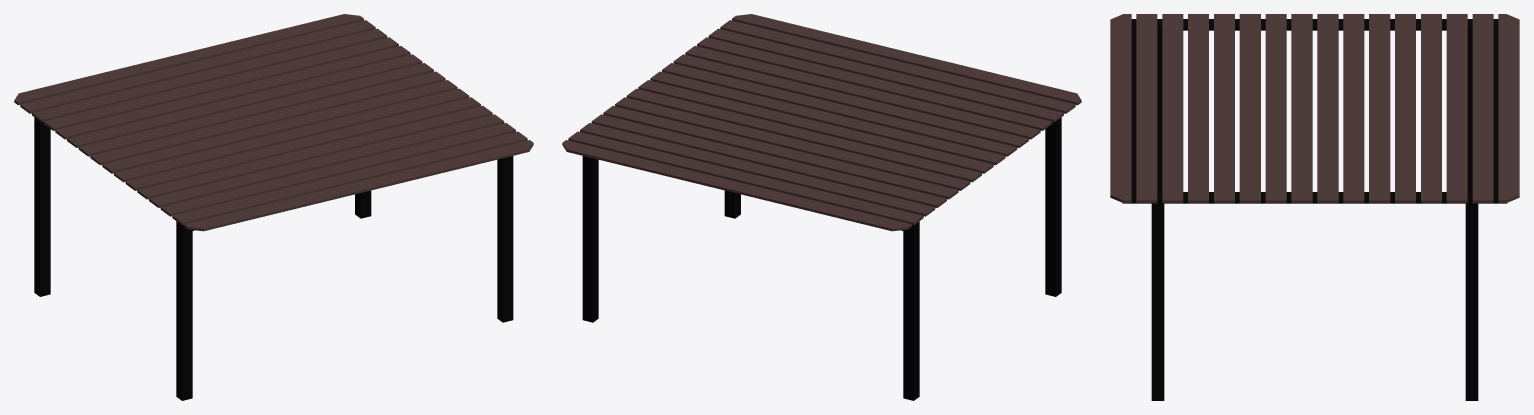
The model's file is P_OUTDOOR TABLE.fbx.
3 views of the same model, side by side, from view 1: azimuth 30°, elevation 25°; view 2: azimuth 150°, elevation 25°; view 3: azimuth 270°, elevation 25° (orthographic). The views are drawn at different scales.
Visible parts, largest first — view 1: Outdoor_Table; view 2: Outdoor_Table; view 3: Outdoor_Table.
Boxes of the visible parts, x1=… form: Outdoor_Table: x1=14, y1=14, x2=533, y2=400; Outdoor_Table: x1=562, y1=14, x2=1081, y2=400; Outdoor_Table: x1=1110, y1=14, x2=1519, y2=400.
Bounding box in the file's own units: 153 × 78.33 × 142.
